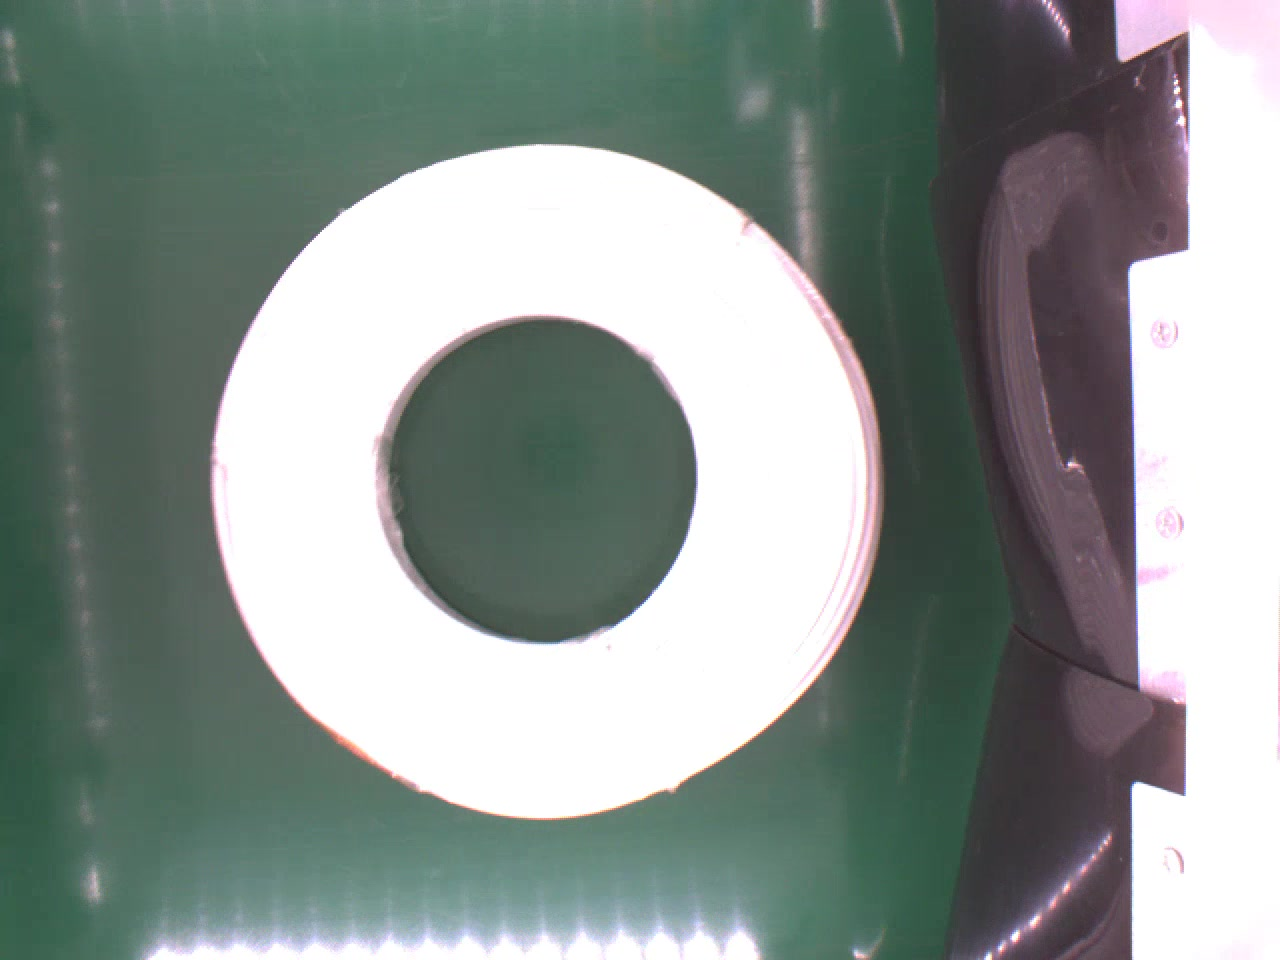white: (206, 140, 906, 827)
